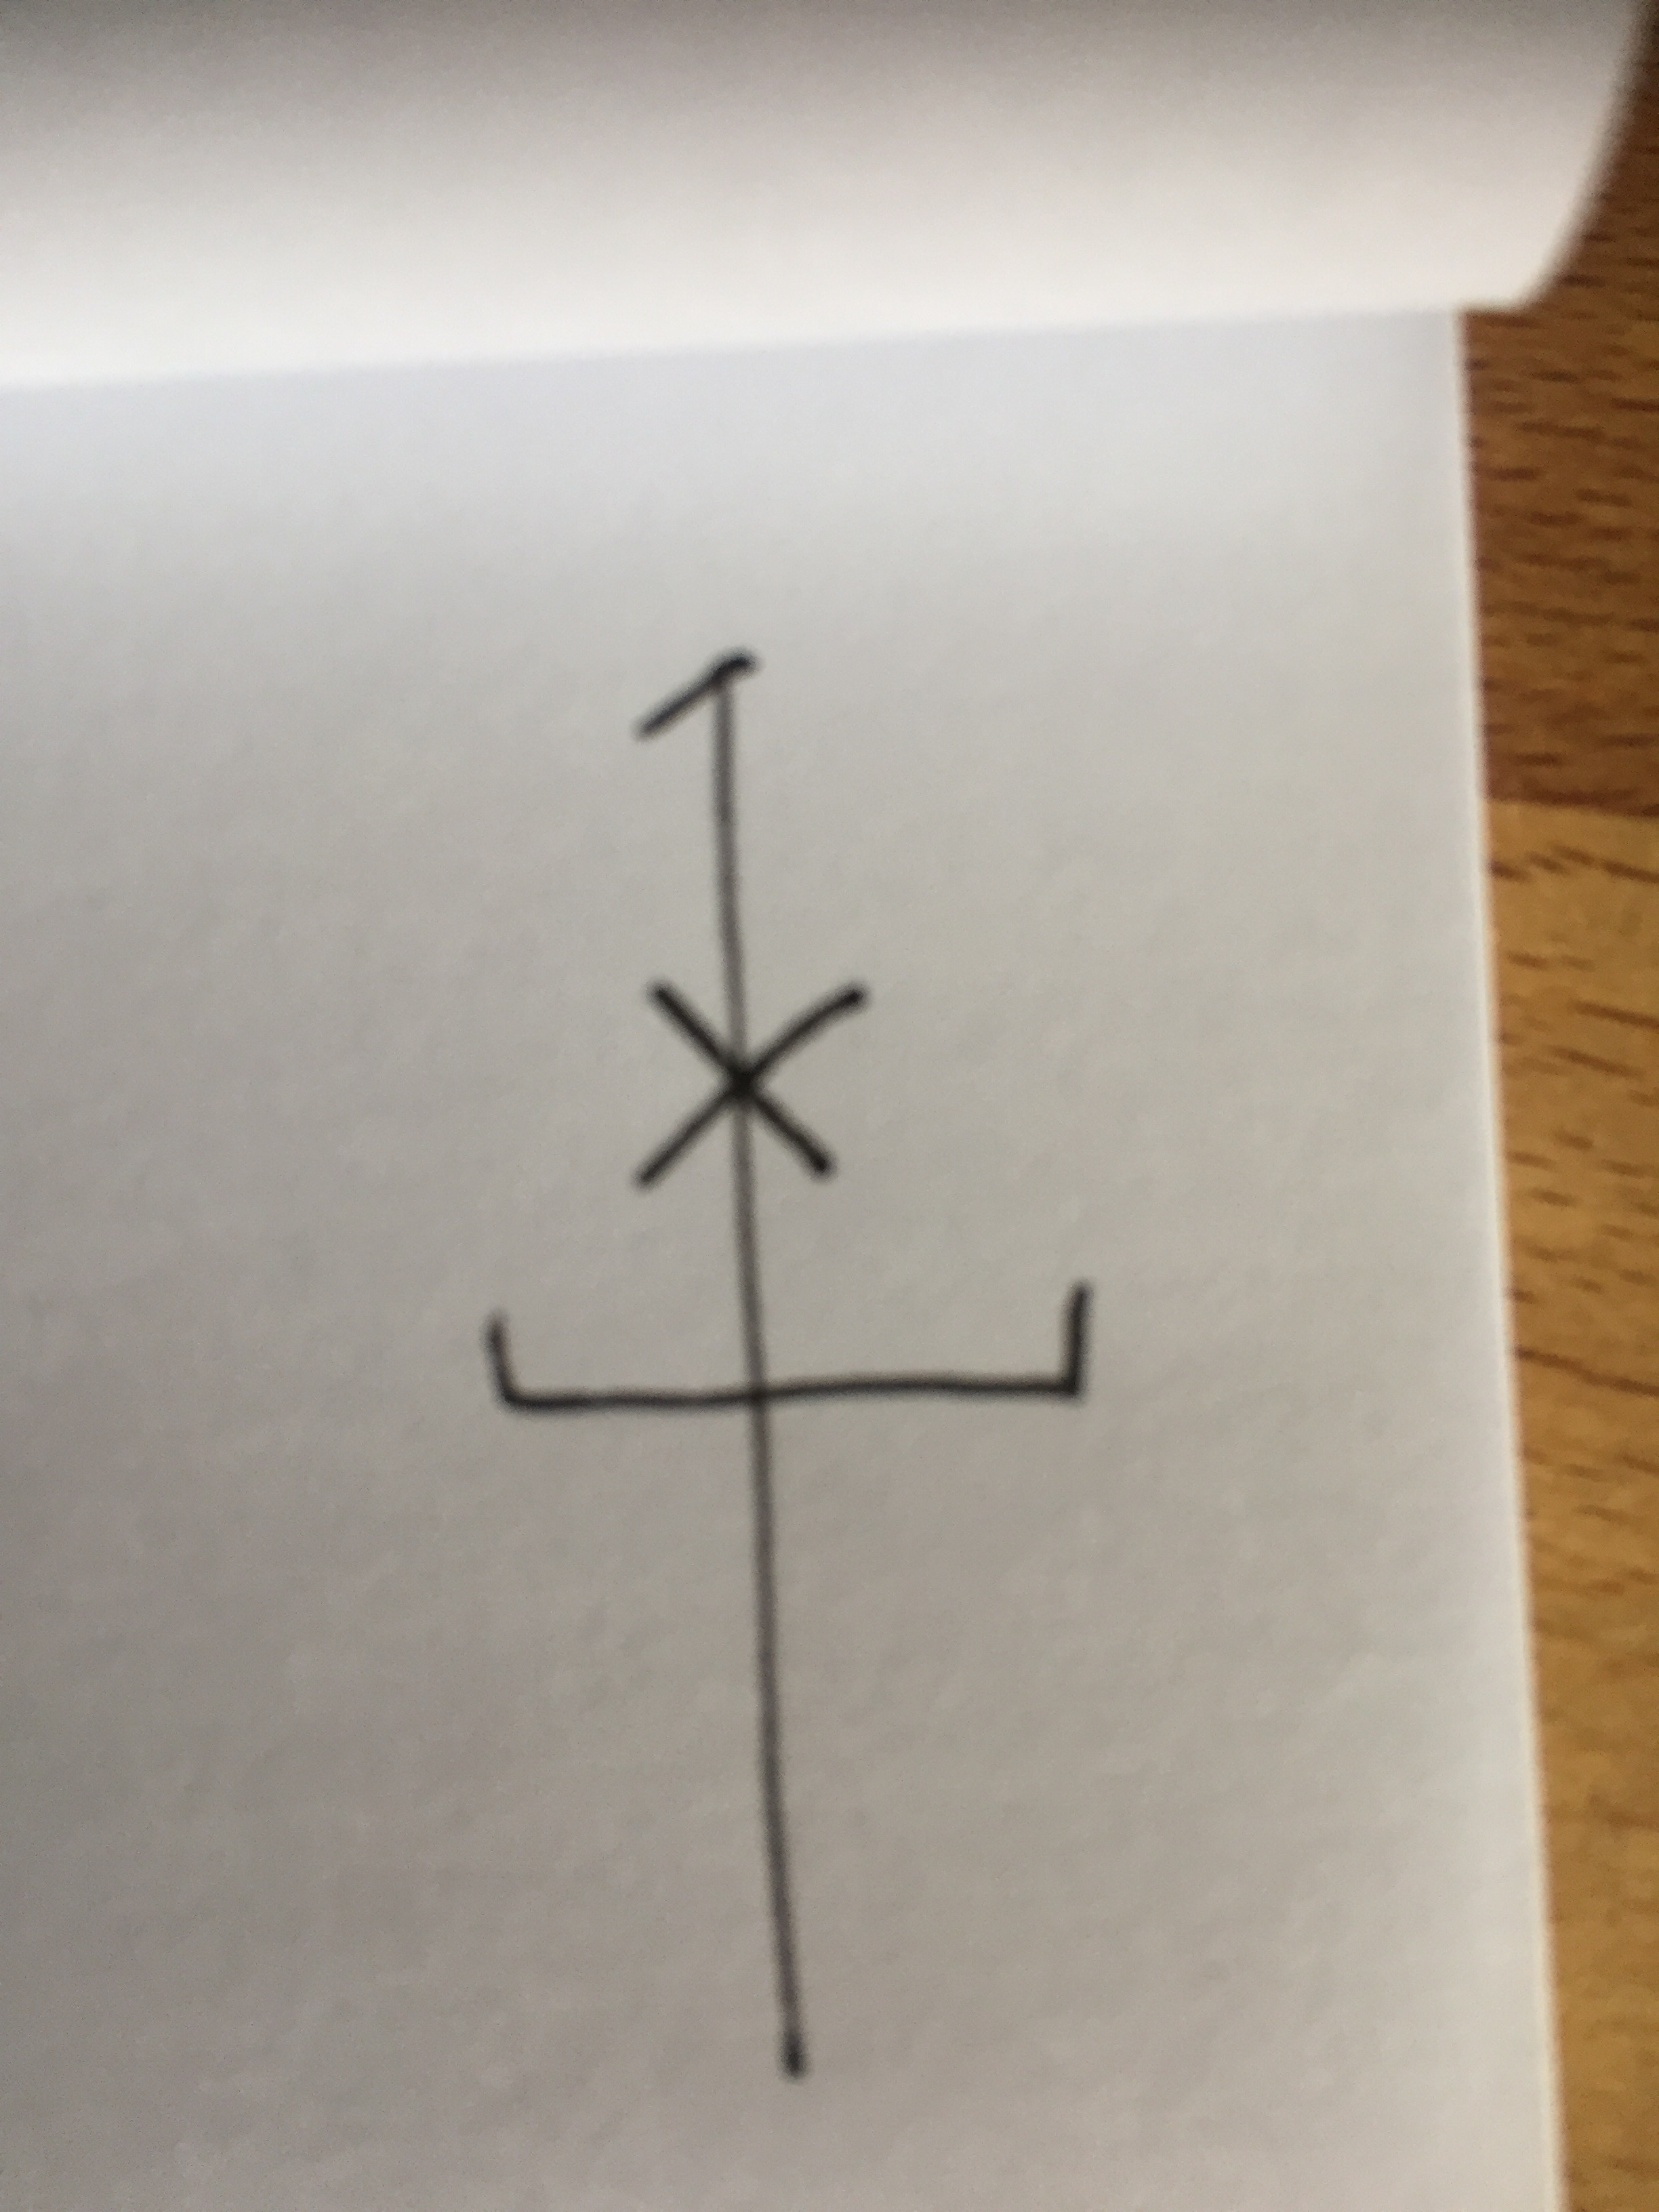Bar: (627, 648, 871, 2074)
Barcode: (481, 646, 1094, 2076)
End: (770, 1280, 1094, 1413)
Start: (481, 1306, 739, 1423)
